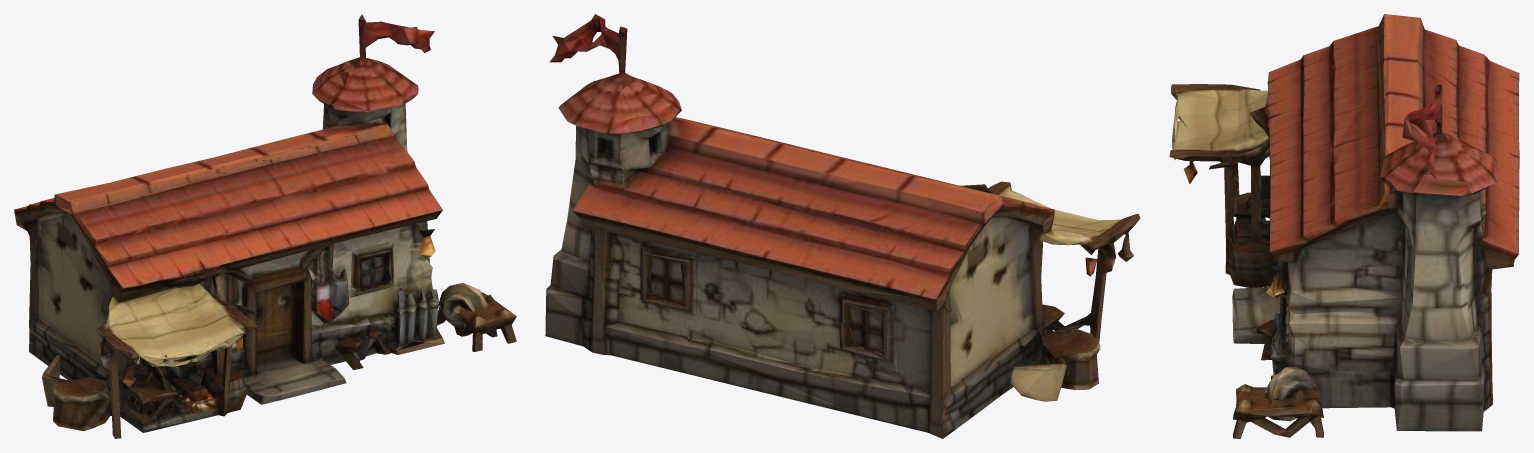
File: smithy_tiled_house_lod1.glb
3 views of the same model, side by side, from view 1: azimuth 30°, elevation 25°; view 2: azimuth 150°, elevation 25°; view 3: azimuth 270°, elevation 25° (orthographic). The views are drawn at different scales.
Visible parts, largest first — view 1: smithy_tiled_house_lod1; view 2: smithy_tiled_house_lod1; view 3: smithy_tiled_house_lod1.
Part boxes in pixels (x1=…): smithy_tiled_house_lod1: x1=14, y1=14, x2=516, y2=438; smithy_tiled_house_lod1: x1=545, y1=14, x2=1140, y2=438; smithy_tiled_house_lod1: x1=1169, y1=14, x2=1519, y2=438.
Size of the model in its own units: 11.36 by 6.98 by 6.91.
1 material, 1 textured.
